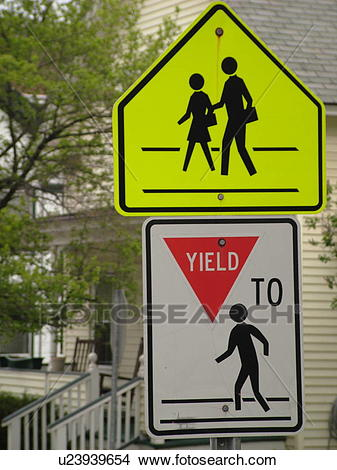slow: (110, 4, 327, 217)
